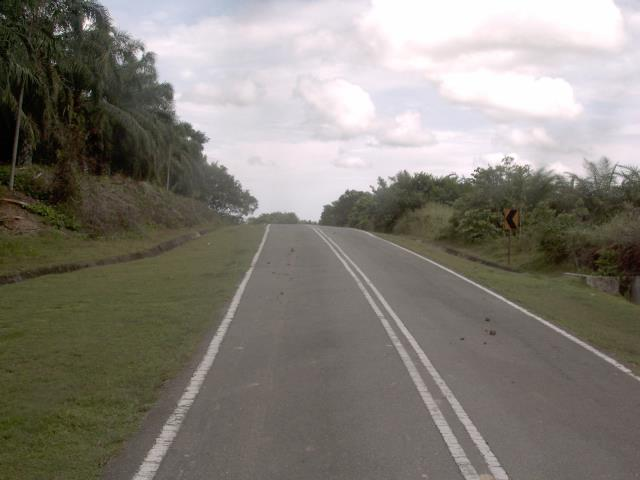traffic_sign: (496, 203, 525, 240)
